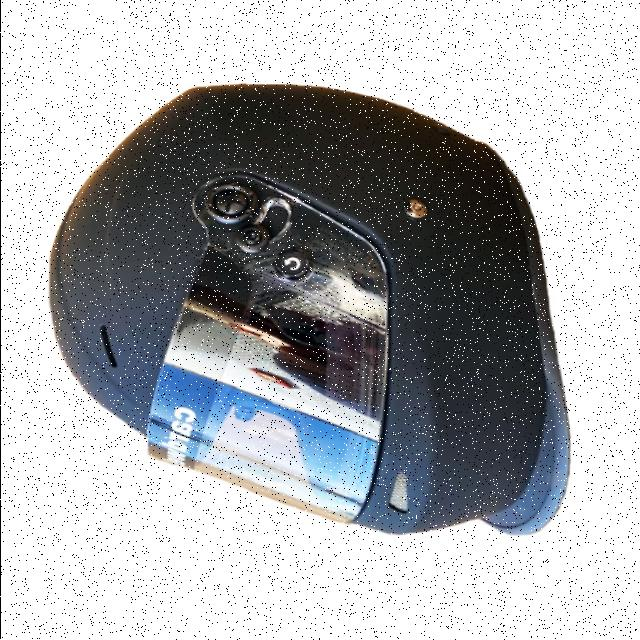Helmet: (44, 87, 574, 558)
